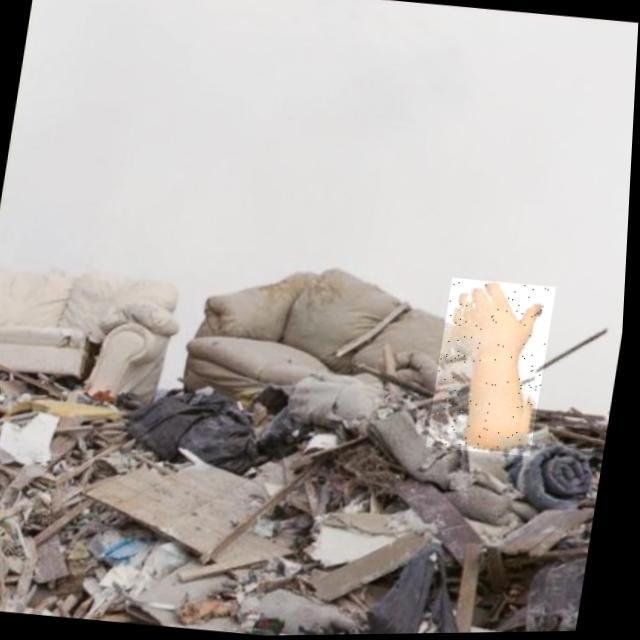Person in Rubble: (430, 277, 559, 459)
